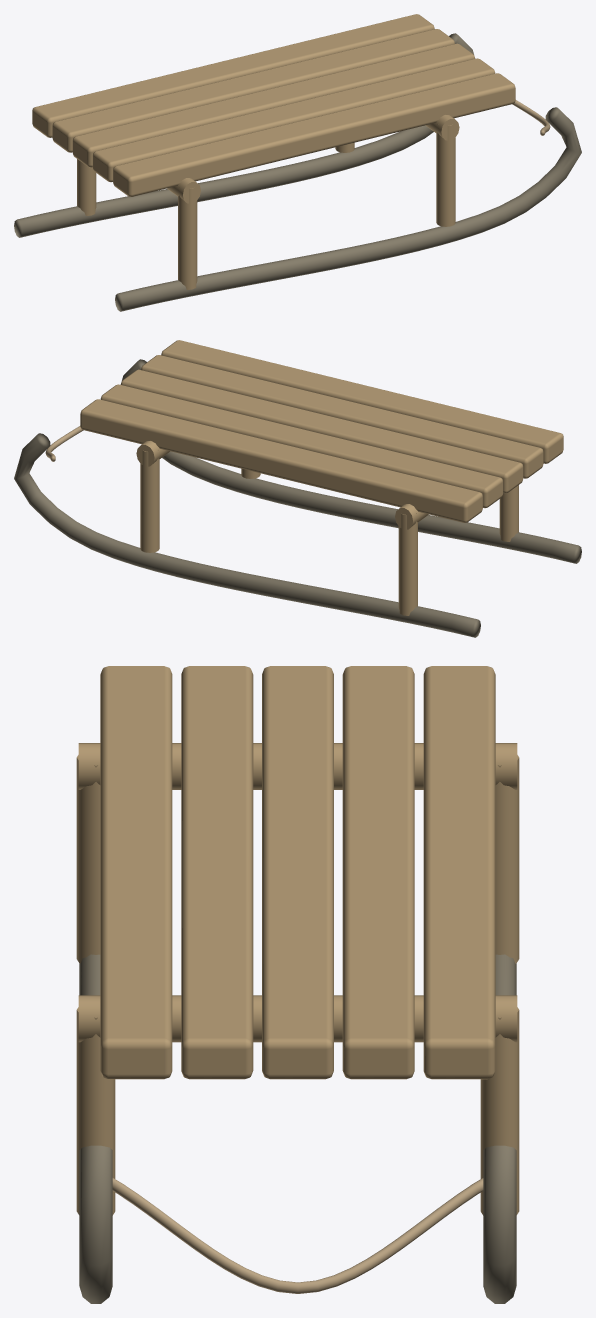
Rendered from sled.glb.
The picture shows the model from 3 angles, top to bottom: view 1: azimuth 30°, elevation 25°; view 2: azimuth 150°, elevation 25°; view 3: azimuth 270°, elevation 25°; orthographic projection. The views are drawn at different scales.
Visible parts, largest first — view 1: sled-slat-4, continuous-runner-1, sled-slat-1, sled-slat-0, sled-slat-2, sled-slat-3, continuous-runner--1, runner-support-1-0-3, runner-support-1--0-38, runner-support--1--0-38, seat-crossbar-0-3, seat-crossbar--0-38; view 2: sled-slat-0, continuous-runner--1, sled-slat-3, sled-slat-4, sled-slat-1, sled-slat-2, continuous-runner-1, runner-support--1-0-3, runner-support--1--0-38, runner-support-1--0-38, seat-crossbar-0-3, seat-crossbar--0-38; view 3: sled-slat-0, sled-slat-4, sled-slat-1, sled-slat-3, sled-slat-2, continuous-runner--1, continuous-runner-1, pull-rope, runner-support--1--0-38, runner-support-1--0-38, runner-support--1-0-3, runner-support-1-0-3 (+2 smaller).
Boxes of the visible parts, x1,y1,x2,y2 form: sled-slat-4: (113,73,515,196); continuous-runner-1: (115,107,581,311); sled-slat-1: (52,29,454,152); sled-slat-0: (32,14,434,137); sled-slat-2: (72,43,475,167); sled-slat-3: (92,58,495,182); continuous-runner--1: (14,33,473,237); runner-support-1-0-3: (436,124,455,226); runner-support-1--0-38: (178,187,197,289); runner-support--1--0-38: (77,159,96,215); seat-crossbar-0-3: (425,115,459,140); seat-crossbar--0-38: (167,178,200,203); sled-slat-0: (80,399,482,522); continuous-runner--1: (14,433,480,637); sled-slat-3: (141,355,543,478); sled-slat-4: (161,340,563,463); sled-slat-1: (100,384,503,508); sled-slat-2: (120,369,523,493); continuous-runner-1: (122,359,581,563); runner-support--1-0-3: (140,450,159,552); runner-support--1--0-38: (398,513,417,615); runner-support-1--0-38: (499,485,518,541); seat-crossbar-0-3: (136,441,170,466); seat-crossbar--0-38: (395,504,428,529); sled-slat-0: (423,666,495,1079); sled-slat-4: (100,666,172,1079); sled-slat-1: (342,666,414,1079); sled-slat-3: (181,666,253,1079); sled-slat-2: (262,666,333,1079); continuous-runner--1: (483,954,516,1303); continuous-runner-1: (79,954,112,1303); pull-rope: (112,1178,483,1293); runner-support--1--0-38: (495,755,519,963); runner-support-1--0-38: (76,755,100,963); runner-support--1-0-3: (480,1007,519,1215); runner-support-1-0-3: (76,1007,115,1215).
Size of the model in its own units: 1.25 by 0.3536 by 0.504.
